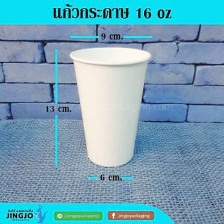paper_cup: (65, 43, 155, 170)
